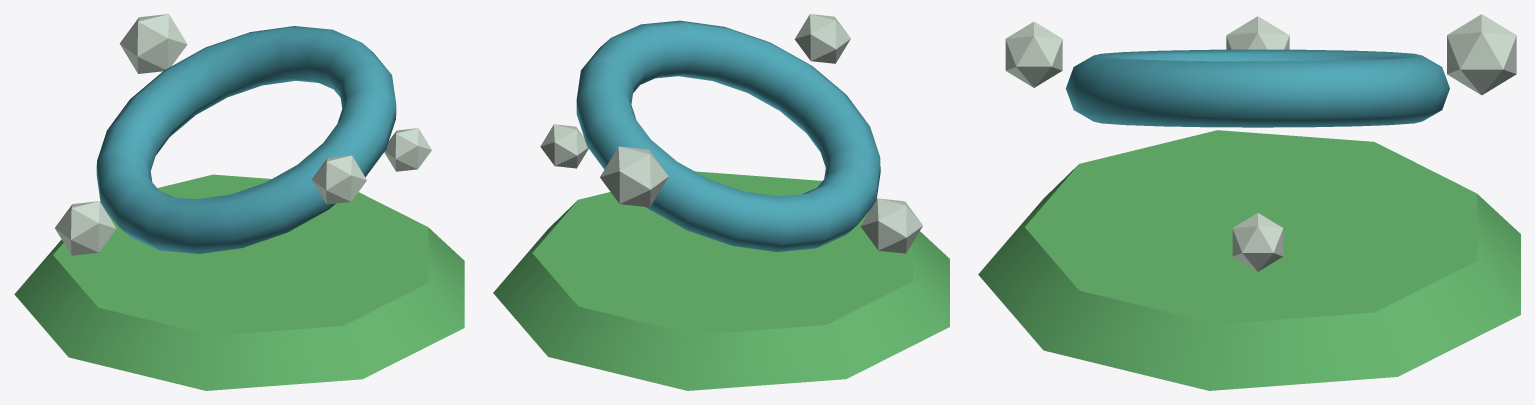
File: gear.glb
3 views of the same model, side by side, from view 1: azimuth 30°, elevation 25°; view 2: azimuth 150°, elevation 25°; view 3: azimuth 270°, elevation 25° (orthographic). The views are drawn at different scales.
Visible parts, largest first — view 1: gear_base, gear_focus, gear_pulse_3, gear_pulse_2, gear_pulse_1, gear_pulse_0; view 2: gear_base, gear_focus, gear_pulse_3, gear_pulse_2, gear_pulse_1, gear_pulse_0; view 3: gear_base, gear_focus, gear_pulse_3, gear_pulse_1, gear_pulse_0, gear_pulse_2.
Boxes of the visible parts, x1=… form: gear_base: x1=14, y1=174, x2=464, y2=390; gear_focus: x1=96, y1=26, x2=396, y2=253; gear_pulse_3: x1=119, y1=14, x2=187, y2=73; gear_pulse_2: x1=55, y1=201, x2=116, y2=255; gear_pulse_1: x1=311, y1=155, x2=366, y2=204; gear_pulse_0: x1=384, y1=128, x2=431, y2=171; gear_base: x1=493, y1=171, x2=949, y2=390; gear_focus: x1=576, y1=20, x2=880, y2=251; gear_pulse_3: x1=600, y1=146, x2=668, y2=207; gear_pulse_2: x1=860, y1=198, x2=922, y2=253; gear_pulse_1: x1=794, y1=14, x2=850, y2=63; gear_pulse_0: x1=540, y1=124, x2=588, y2=168; gear_base: x1=978, y1=130, x2=1520, y2=390; gear_focus: x1=1066, y1=49, x2=1449, y2=127; gear_pulse_3: x1=1447, y1=14, x2=1516, y2=95; gear_pulse_1: x1=1005, y1=21, x2=1062, y2=87; gear_pulse_0: x1=1232, y1=213, x2=1283, y2=271; gear_pulse_2: x1=1226, y1=16, x2=1289, y2=49.
Size of what is drawn, in the model's own units: 2.95 by 1.61 by 2.91.
